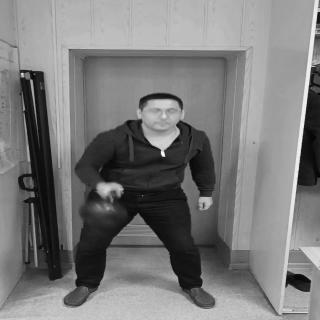kettlebell: (79, 191, 131, 229)
